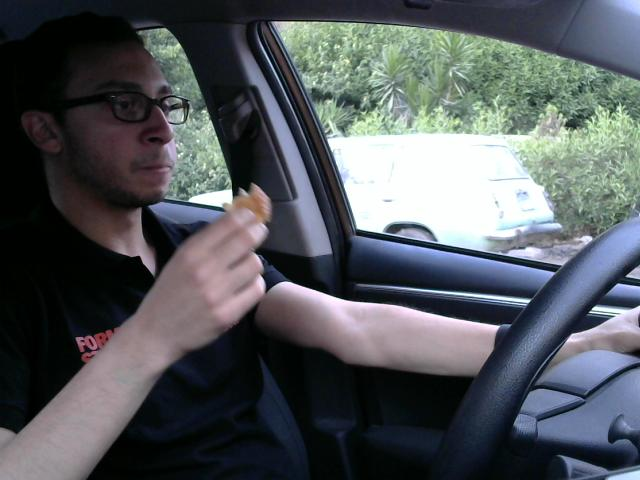Eating: (216, 174, 278, 234)
